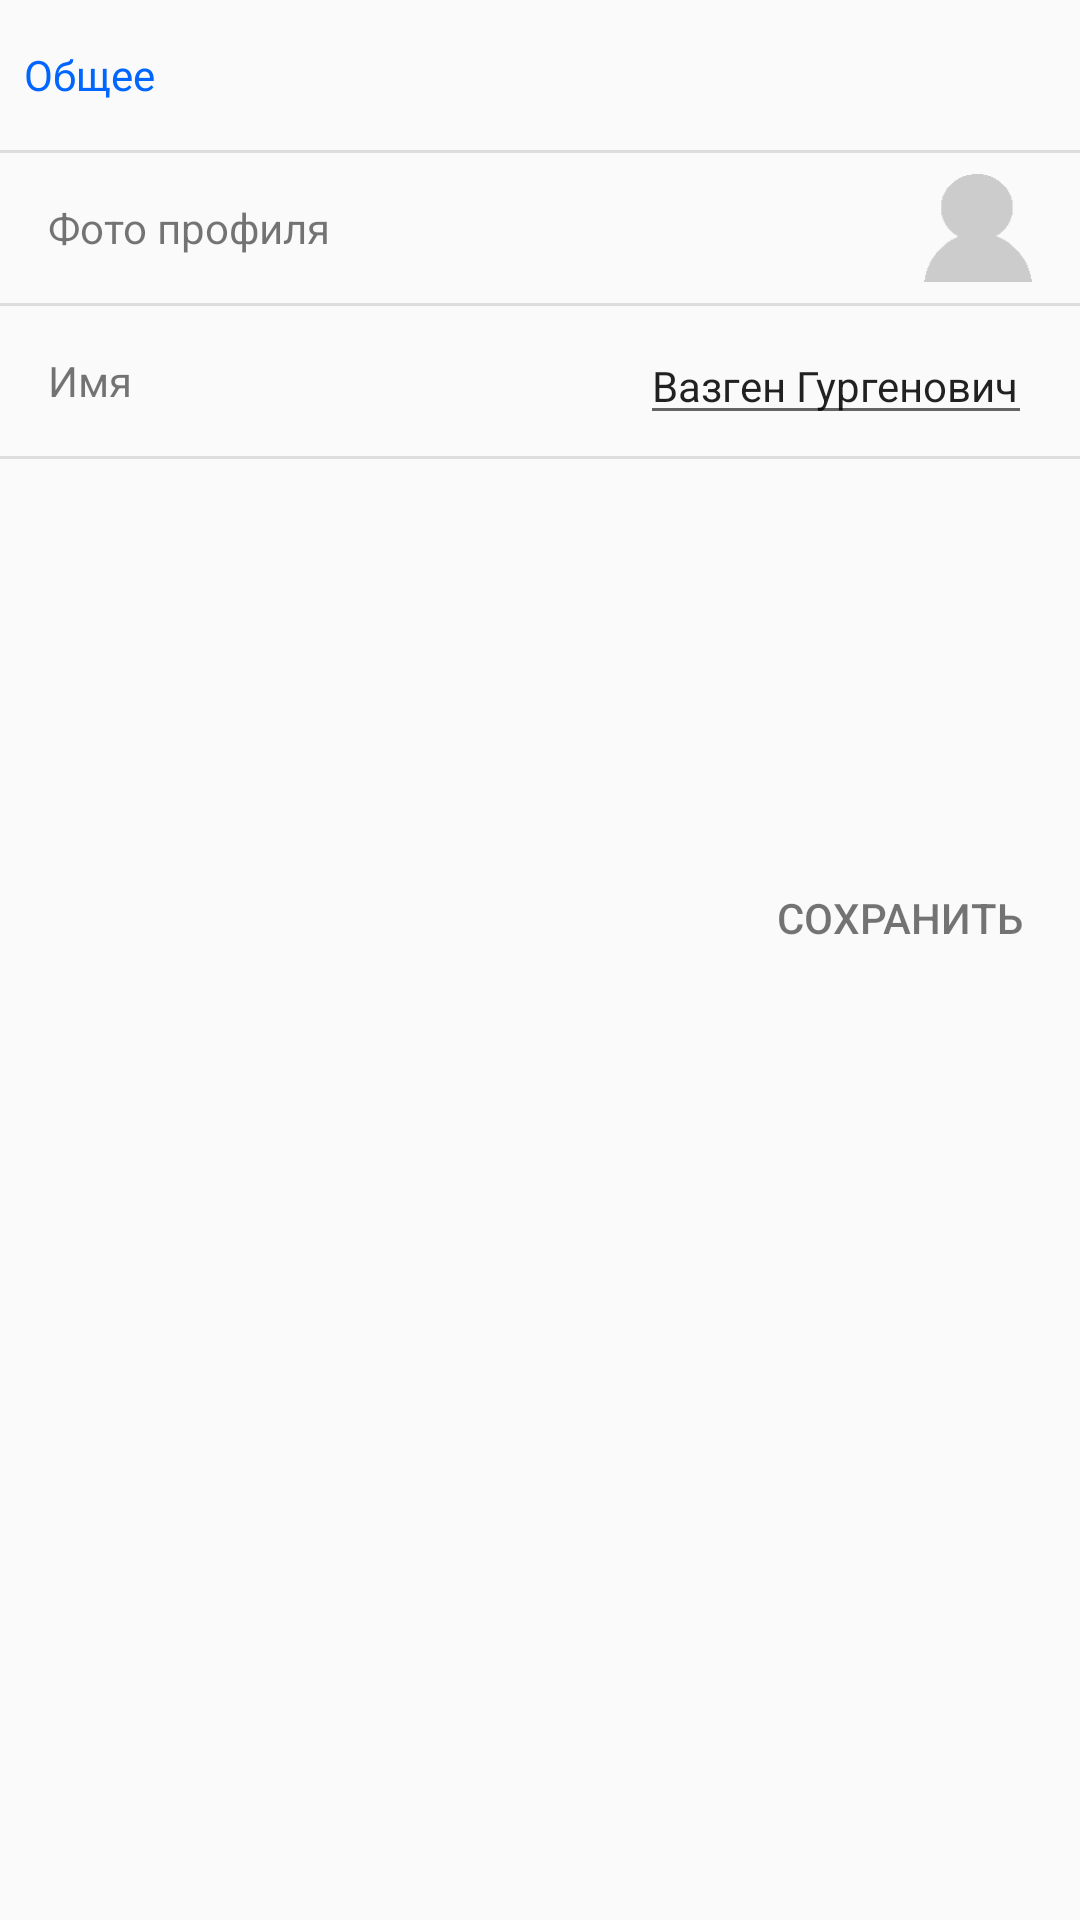

Icons on this 1080*1920 Android screen, each with its box as (x1=x1, y1=y1, x2=x2, y2=y2):
profile: (x1=924, y1=174, x2=1032, y2=282)
